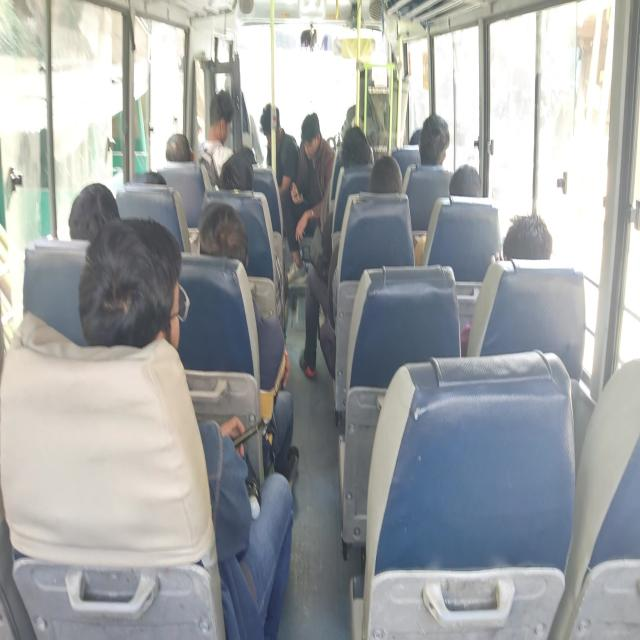person: (75, 230, 180, 345), (74, 178, 126, 256), (195, 200, 241, 271), (501, 206, 541, 268), (451, 168, 496, 214), (421, 108, 447, 176), (216, 160, 252, 201), (210, 92, 236, 148), (341, 129, 374, 168), (299, 127, 326, 172), (371, 152, 397, 198), (260, 111, 286, 155), (166, 128, 187, 160), (135, 169, 159, 194), (237, 147, 257, 170), (408, 128, 424, 150)
